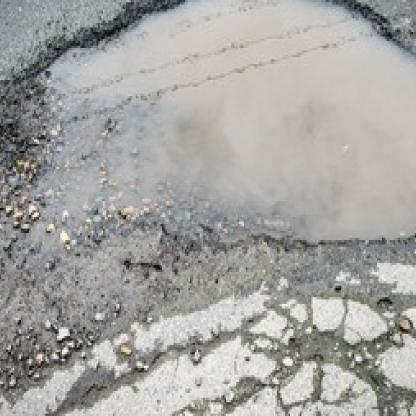pothole: (29, 0, 416, 249)
